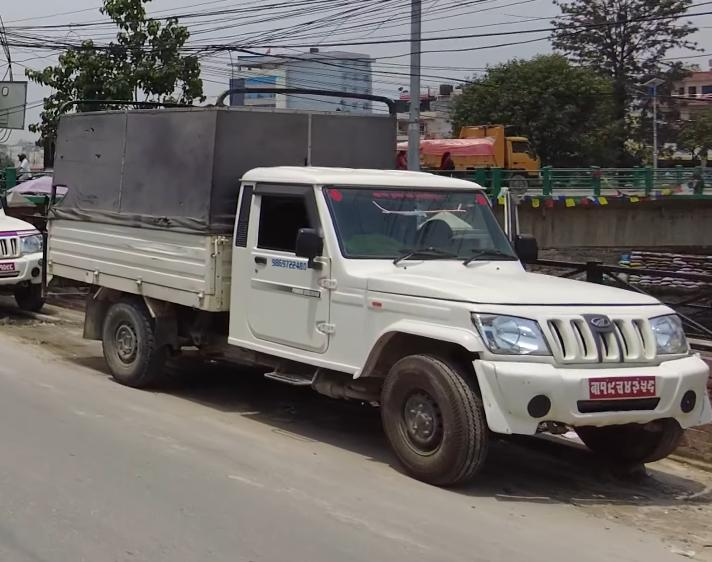transport_vehicle: (32, 80, 712, 500)
truck: (394, 93, 555, 200)
